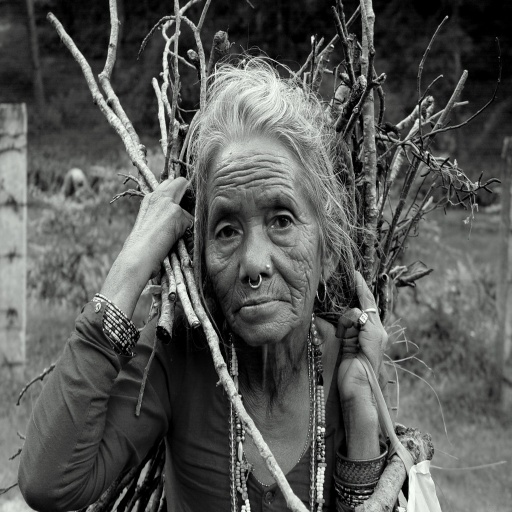hand: (74, 170, 192, 370), (333, 266, 389, 406)
